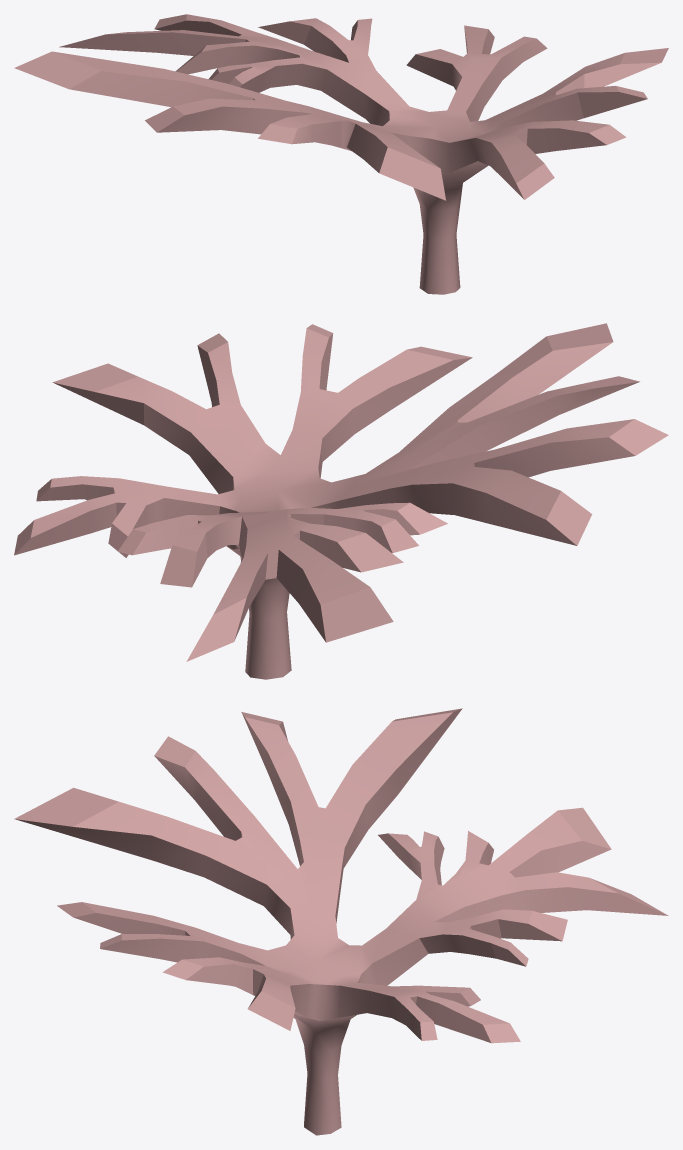
The model's file is coral_2_4_uv.fbx.
3 views of the same model, one above another, from view 1: azimuth 30°, elevation 25°; view 2: azimuth 150°, elevation 25°; view 3: azimuth 270°, elevation 25° (orthographic). The views are drawn at different scales.
Visible parts, largest first — view 1: pPlane35; view 2: pPlane35; view 3: pPlane35.
Boxes of the visible parts, x1=… form: pPlane35: x1=14, y1=14, x2=668, y2=294; pPlane35: x1=14, y1=323, x2=668, y2=679; pPlane35: x1=14, y1=708, x2=668, y2=1135.
Bounding box in the file's own units: 324 × 151 × 332.
